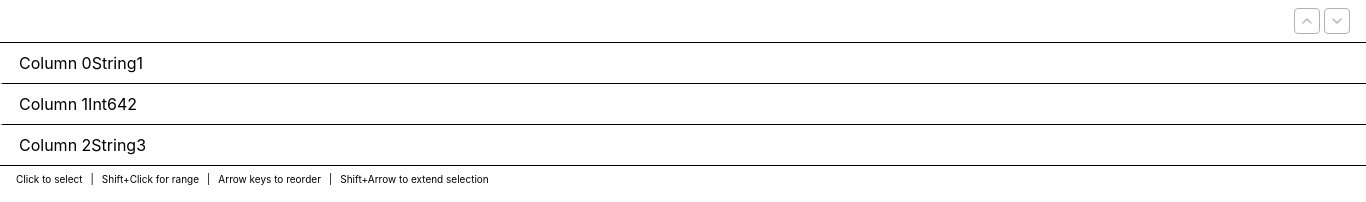
Test case: ConfigColumnSelector › selects item on click
Click the option with test id "item-col-1" at (54, 104), box [0,83,1365,124]
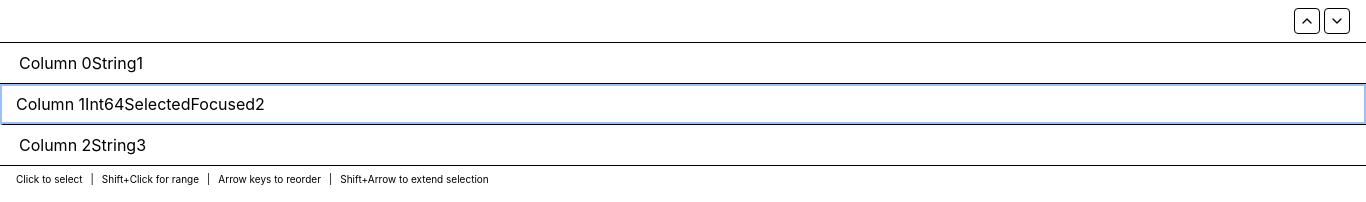
Expected: the text "Selected" is shown, [124,94,190,114]
